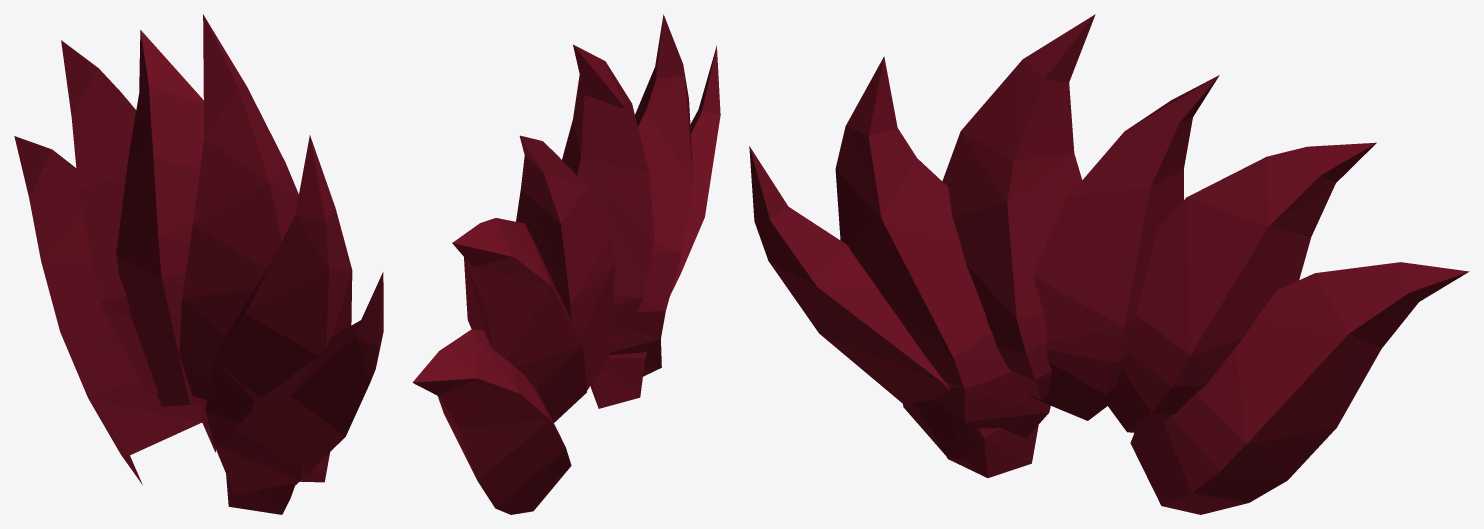
File: hair-mohawk.low.d9cbf6cc.glb
3 renders of one model, left to right at view 1: azimuth 30°, elevation 25°; view 2: azimuth 150°, elevation 25°; view 3: azimuth 270°, elevation 25°, orthographic. The views are drawn at different scales.
Visible parts, largest first — view 1: hair-mohawk; view 2: hair-mohawk; view 3: hair-mohawk.
Part boxes in pixels (x1,y1,x2,y2): hair-mohawk: (14,14,383,514); hair-mohawk: (412,14,720,514); hair-mohawk: (749,14,1469,514).
Size of the model in its own units: 0.0833 by 0.3006 by 0.3892.
